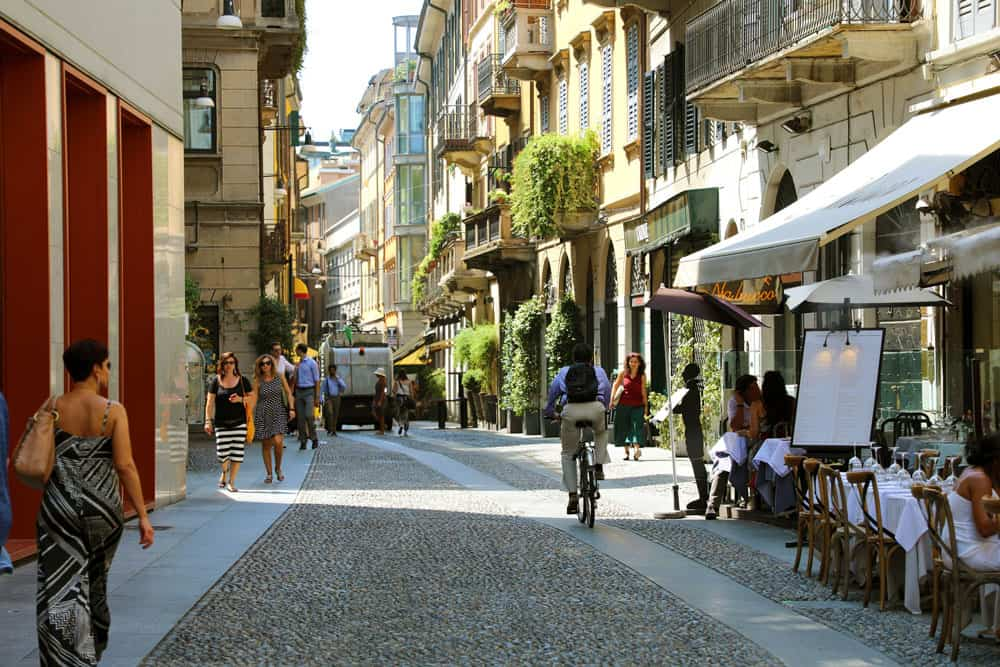chair: (900, 481, 1000, 649), (849, 469, 913, 608), (785, 449, 832, 572)
person: (15, 332, 168, 667), (542, 338, 621, 533), (926, 427, 1000, 573), (248, 350, 303, 489), (202, 348, 254, 491), (607, 344, 663, 465), (369, 365, 418, 433), (294, 344, 322, 453), (724, 370, 768, 436), (321, 360, 352, 443)
